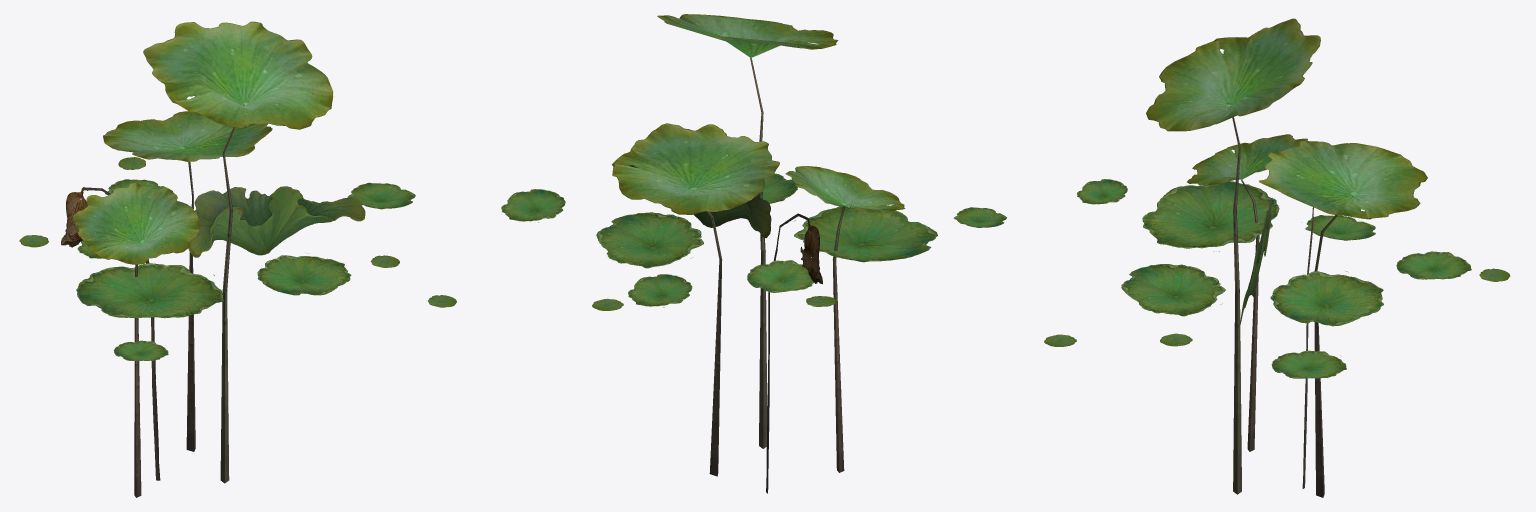
File: TY_hehua_03.FBX
The picture shows the model from 3 angles, left to right: view 1: azimuth 30°, elevation 25°; view 2: azimuth 150°, elevation 25°; view 3: azimuth 270°, elevation 25°; orthographic projection. The views are drawn at different scales.
Parts seen in each view (by area): view 1: TY_hehua_03; view 2: TY_hehua_03; view 3: TY_hehua_03.
Part boxes in pixels (left/top/right/bottom): TY_hehua_03: left=19, top=21, right=456, bottom=497; TY_hehua_03: left=501, top=14, right=1006, bottom=493; TY_hehua_03: left=1044, top=18, right=1510, bottom=497.
Size of the model in its own units: 399 by 431 by 401.
